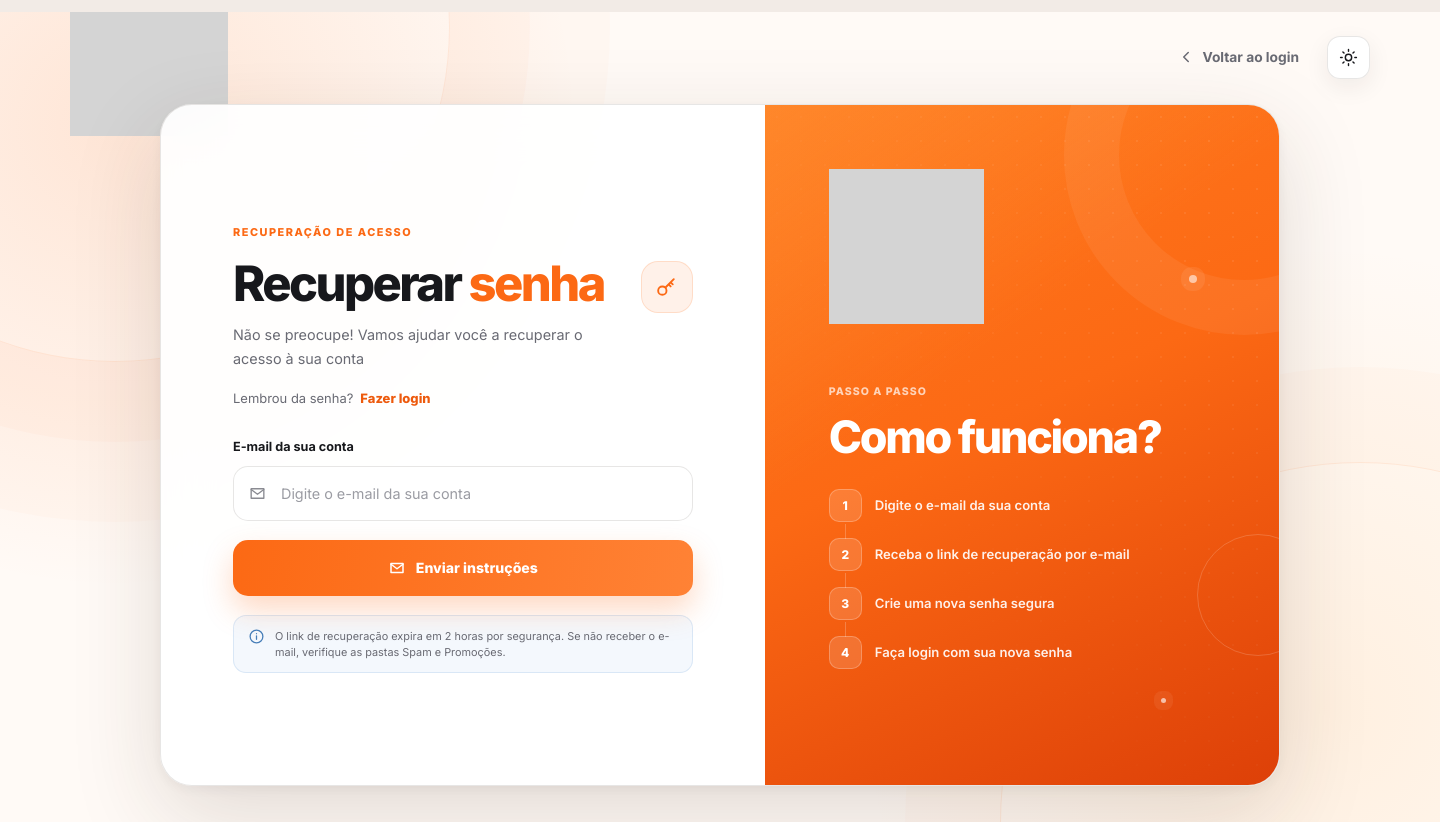
Test: experiência de recuperação de senha › mostra a resposta de negócio devolvida pelo backend
In the field labelled "E-mail da sua conta": (486, 493) [281,467,692,520], type "pessoa@exemplo.com"
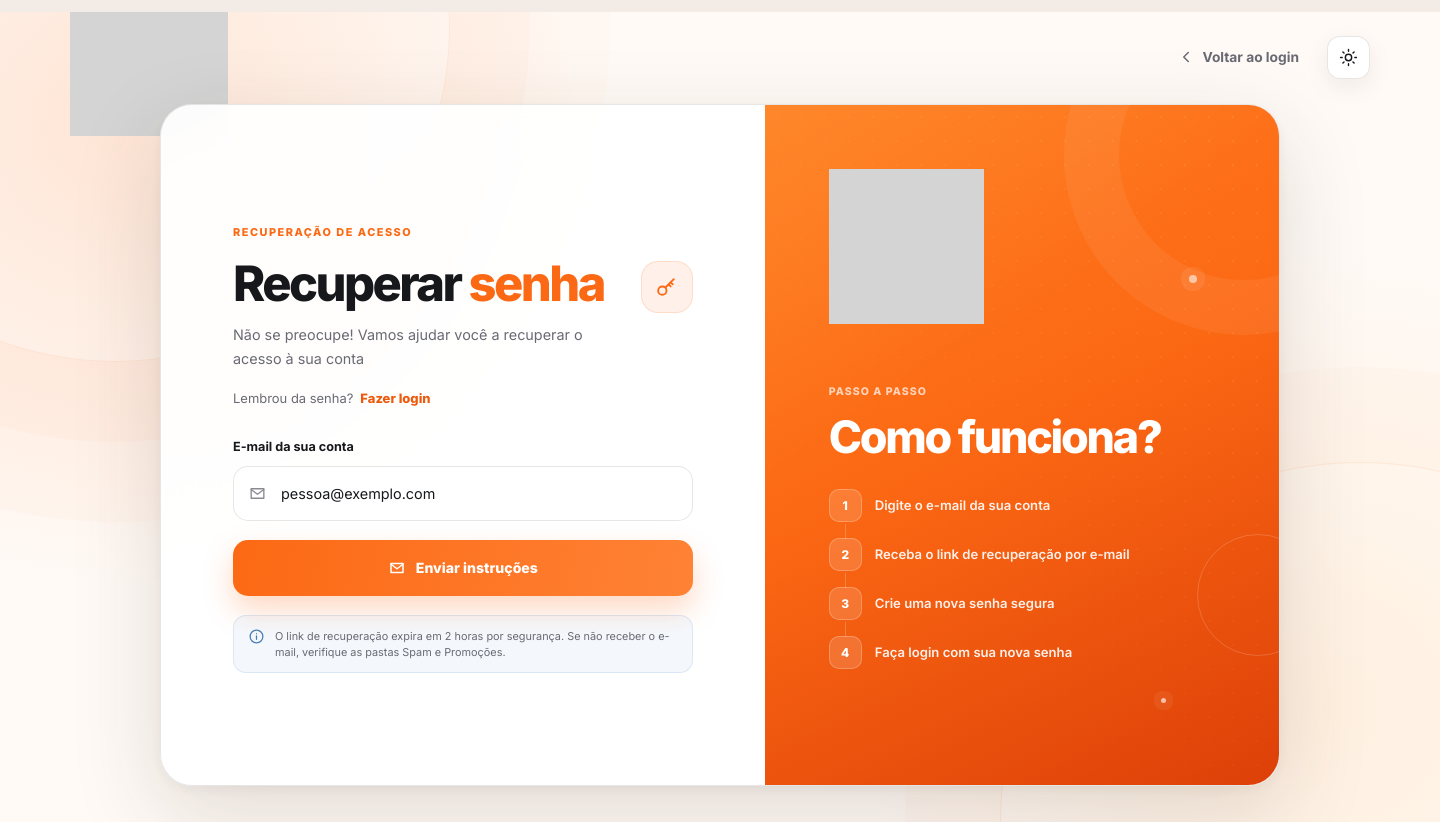
Click the button "Enviar instruções": (463, 568) [233,540,693,596]
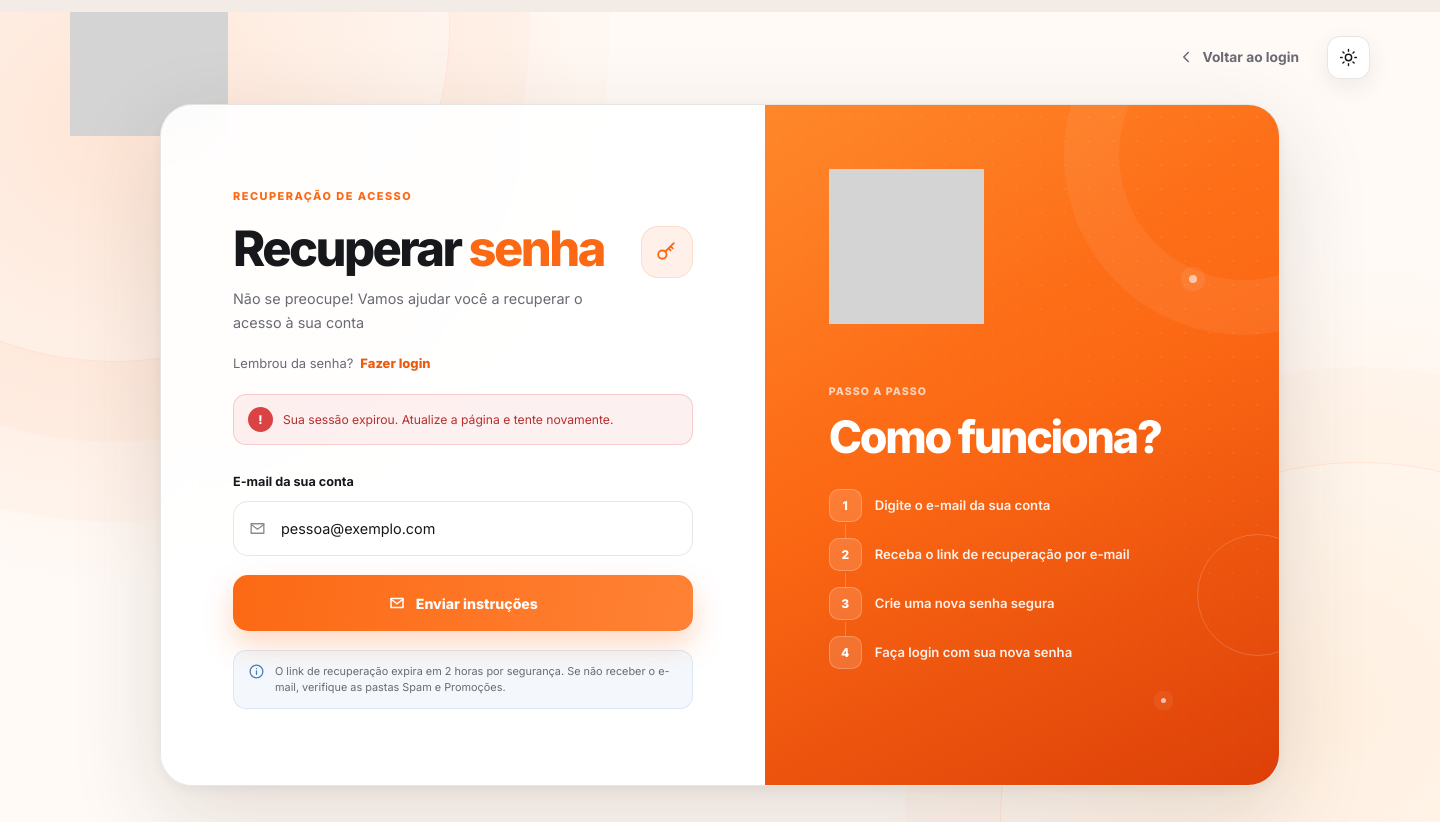
Expected: the message shows "Sua sessão expirou.", [283,412,614,427]
